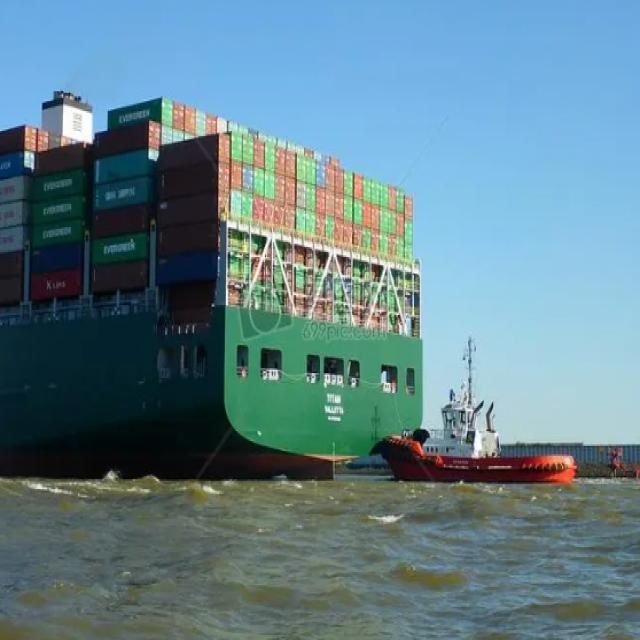cargoship: (0, 58, 441, 490)
fishing boat: (382, 349, 611, 496)
